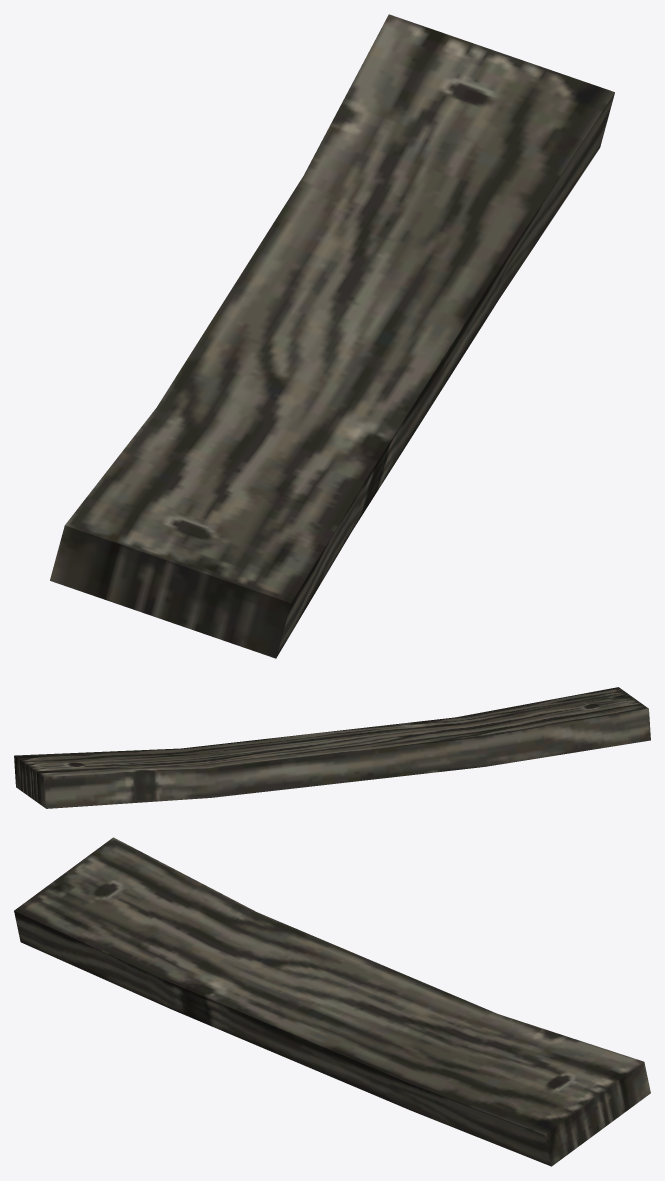
The model's file is ANIMATEDINSTANCES_BOARD_FALL6__BA.fbx.
The picture shows the model from 3 angles, top to bottom: view 1: azimuth 30°, elevation 25°; view 2: azimuth 150°, elevation 25°; view 3: azimuth 270°, elevation 25°; orthographic projection. The views are drawn at different scales.
Parts seen in each view (by area): view 1: ANIMATEDINSTANCES_BOARD_FALL6__BA; view 2: ANIMATEDINSTANCES_BOARD_FALL6__BA; view 3: ANIMATEDINSTANCES_BOARD_FALL6__BA.
Boxes of the visible parts, box(x1,y1,x2,y2) form: ANIMATEDINSTANCES_BOARD_FALL6__BA: box(50, 14, 614, 658); ANIMATEDINSTANCES_BOARD_FALL6__BA: box(14, 687, 650, 808); ANIMATEDINSTANCES_BOARD_FALL6__BA: box(14, 837, 650, 1166).
Bounding box in the file's own units: 15489 × 1978 × 15489.
1 material, 1 textured.
